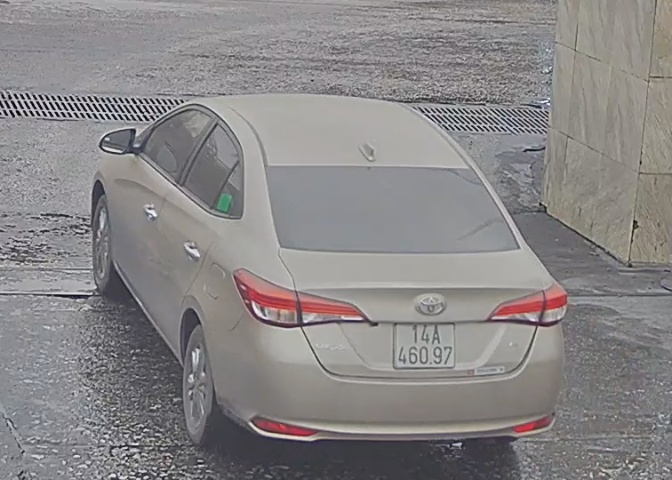vehicle plate: (385, 313, 457, 371)
